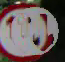Two way: (8, 2, 64, 58)
